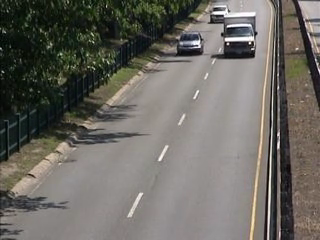car: (175, 30, 207, 59), (209, 5, 232, 25)
truck: (221, 11, 259, 62)
